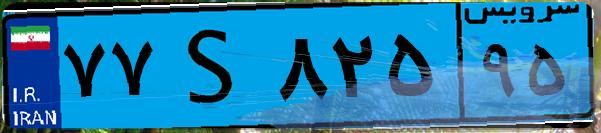2: (330, 28, 385, 110)
5: (385, 28, 445, 110), (525, 38, 570, 115)
7: (57, 26, 110, 100), (110, 28, 158, 98)
8: (270, 28, 330, 110)
9: (475, 38, 525, 113)
S: (158, 12, 270, 120)
